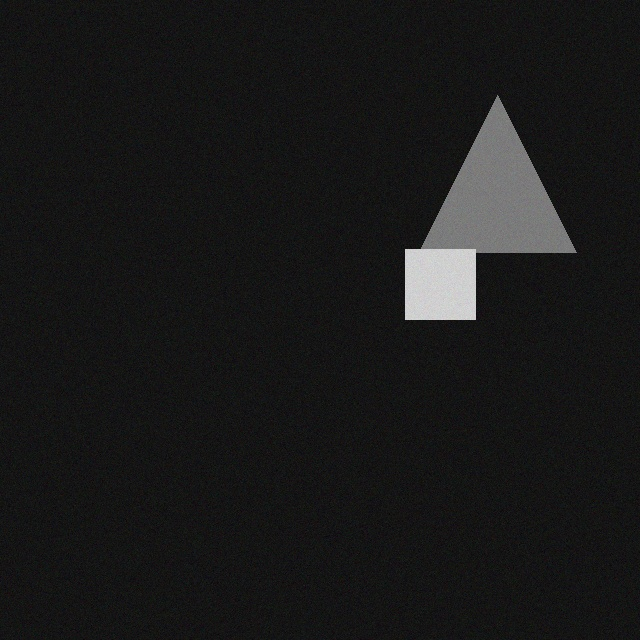square: (391, 246, 461, 316)
triangle: (405, 92, 562, 249)
